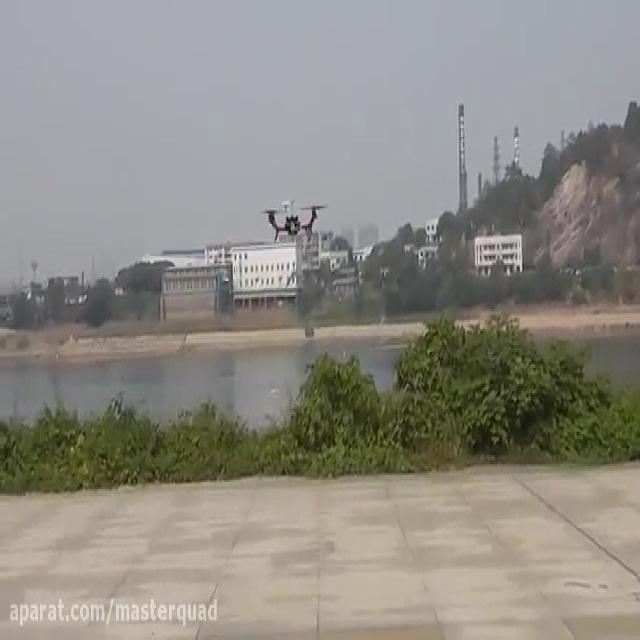drone: (258, 192, 328, 245)
